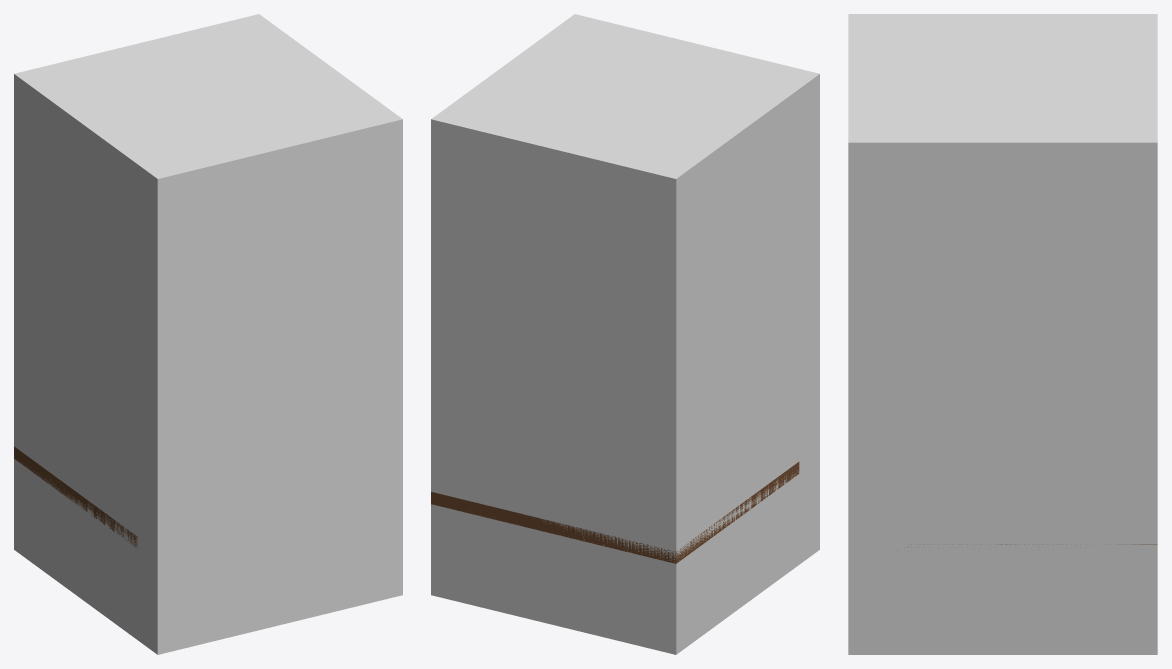
File: FMS_Beehive.fbx
The picture shows the model from 3 angles, left to right: view 1: azimuth 30°, elevation 25°; view 2: azimuth 150°, elevation 25°; view 3: azimuth 270°, elevation 25°; orthographic projection. The views are drawn at different scales.
Parts seen in each view (by area): view 1: FMS_Beehive_Col, FMS_Beehive_LOD0; view 2: FMS_Beehive_Col, FMS_Beehive_LOD0; view 3: FMS_Beehive_Col.
Part boxes in pixels (bbox=[...]): FMS_Beehive_Col: bbox=[14, 14, 402, 654]; FMS_Beehive_LOD0: bbox=[14, 446, 137, 547]; FMS_Beehive_Col: bbox=[431, 14, 819, 654]; FMS_Beehive_LOD0: bbox=[431, 462, 799, 563]; FMS_Beehive_Col: bbox=[848, 14, 1157, 654].
Size of what is drawn, in the model's own units: 0.62 by 1.15 by 0.63.
Materials: 1 (1 with a texture image).
